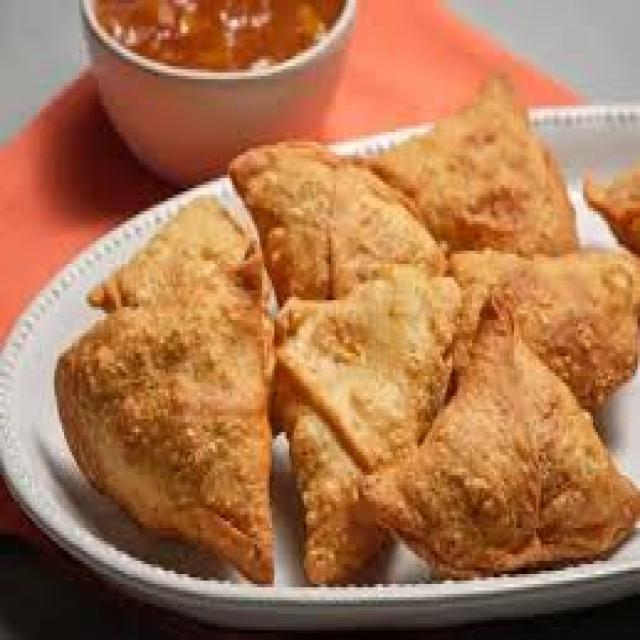SAMOSA: (57, 256, 272, 592), (372, 297, 638, 566), (276, 278, 494, 586), (228, 138, 452, 308), (380, 67, 575, 260), (451, 249, 638, 410), (83, 193, 259, 317), (587, 153, 638, 250)
